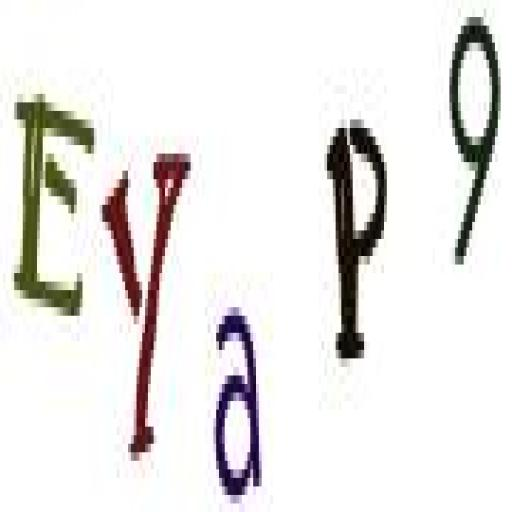9: (445, 4, 506, 285)
E: (10, 78, 98, 334)
P: (325, 115, 389, 373)
Y: (101, 146, 195, 469)
a: (208, 299, 267, 508)
